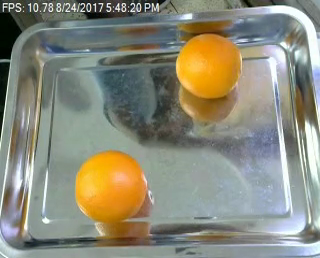Orange: (74, 149, 148, 222), (175, 34, 242, 98)
